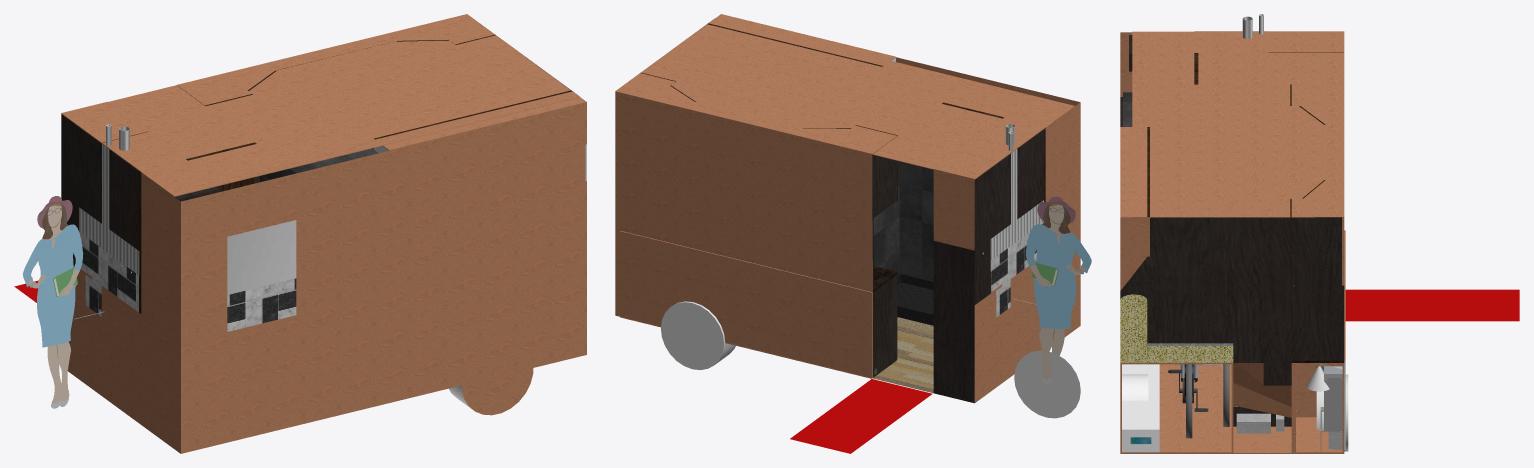
Rendered from van.glb.
3 views of the same model, side by side, from view 1: azimuth 30°, elevation 25°; view 2: azimuth 150°, elevation 25°; view 3: azimuth 270°, elevation 25° (orthographic). The views are drawn at different scales.
Parts seen in each view (by area): view 1: Geom3D (×9); view 2: Geom3D (×13); view 3: Geom3D (×10), Geom3D_.
Part boxes in pixels (x1,y1,x2,y2): Geom3D (×9): (23, 14, 586, 453); Geom3D (×13): (615, 14, 1091, 453); Geom3D (×10): (1120, 14, 1519, 453); Geom3D_: (1324, 381, 1342, 425).
Bounding box in the file's own units: 4.27 × 2.55 × 3.18.
118 materials, 53 textured.
